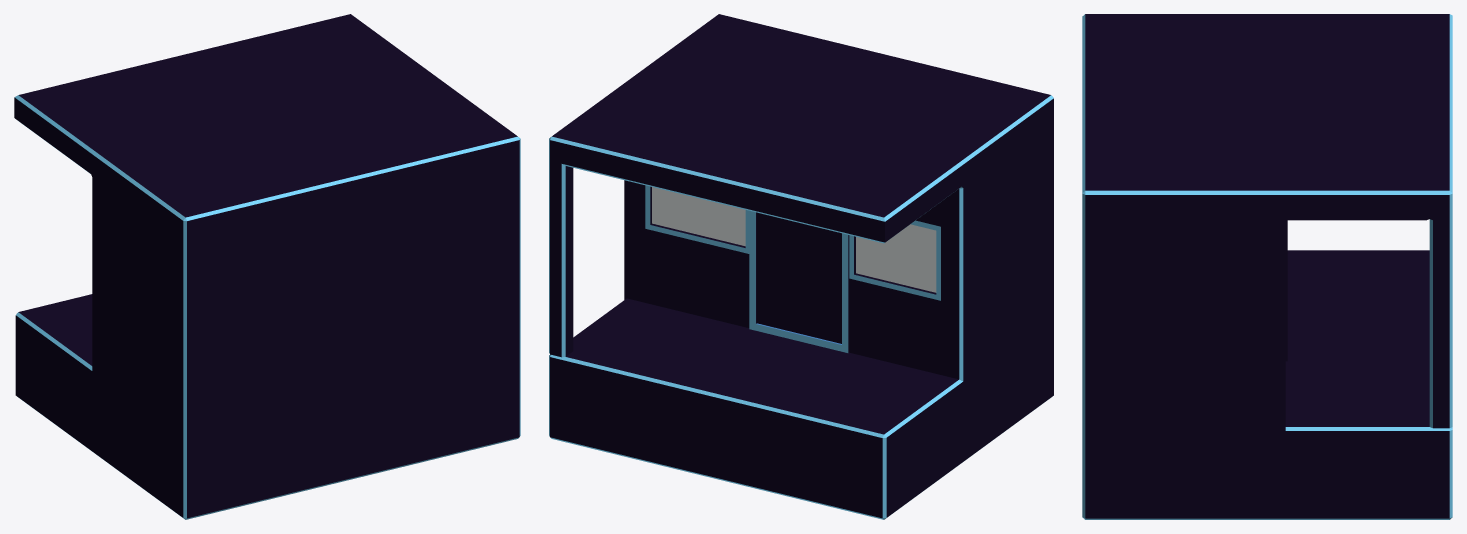
File: Train Station.fbx
The picture shows the model from 3 angles, left to right: view 1: azimuth 30°, elevation 25°; view 2: azimuth 150°, elevation 25°; view 3: azimuth 270°, elevation 25°; orthographic projection. The views are drawn at different scales.
Visible parts, largest first — view 1: Cube; view 2: Cube; view 3: Cube.
Boxes of the visible parts, left/top/right/bottom form: Cube: left=14, top=14, right=520, bottom=519; Cube: left=549, top=14, right=1053, bottom=519; Cube: left=1082, top=14, right=1452, bottom=519.
Size of the model in its own units: 400 by 343 by 349.
